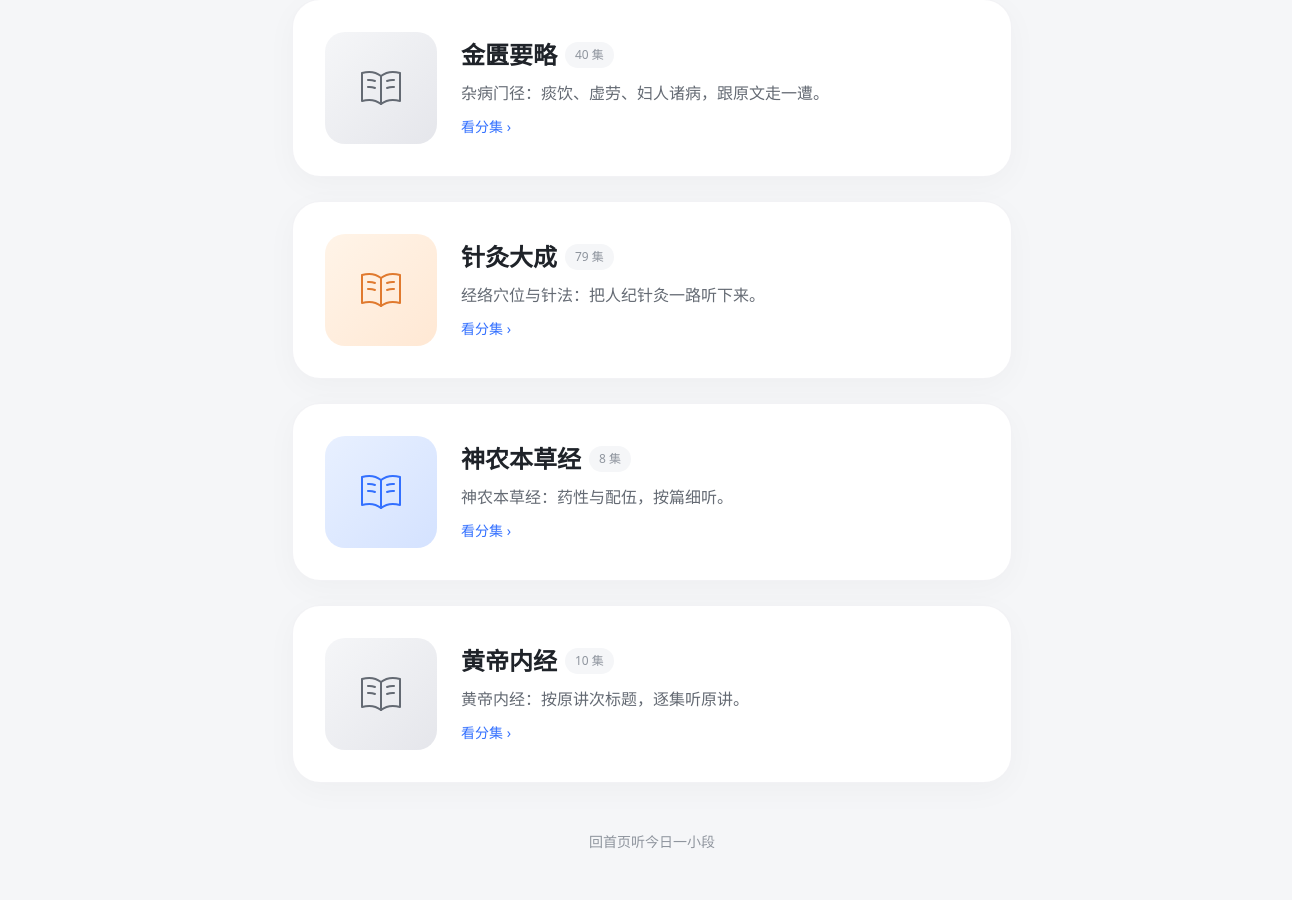
Test case: series list -> ten-episode detail -> original Watch ID -> breadcrumb remains the same series
(page scrolled)
Click the link "黄帝内经 10 集 黄帝内经：按原讲次标题，逐集听原讲。 看分集 ›": (652, 694) x1=292 y1=604 x2=1012 y2=782
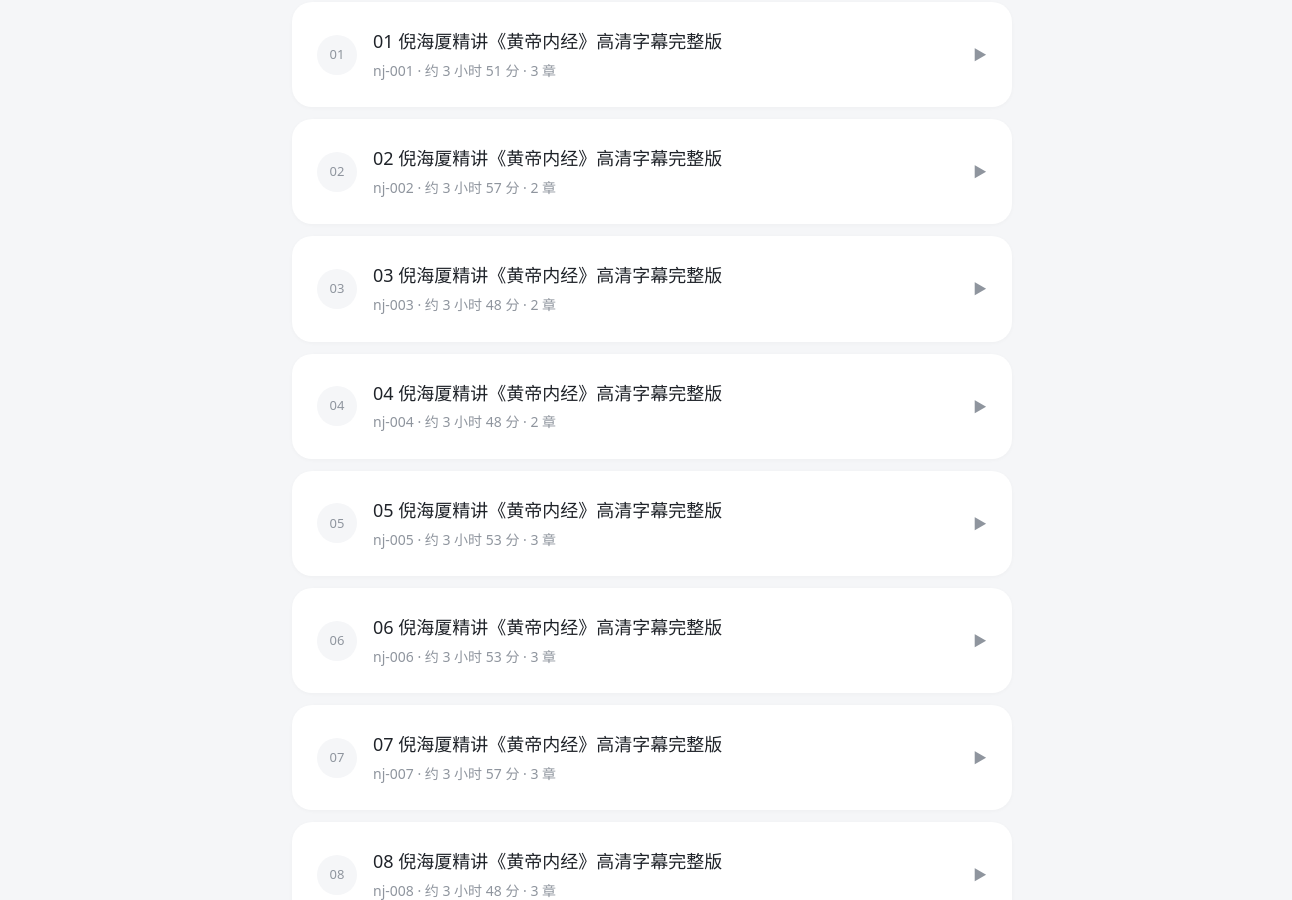
Expected: the number of links with class "episode-row" is 10
Click the link with class "episode-row" that starts with "01 倪海厦精讲《黄帝内经》高清字幕完整版": (652, 55) x1=292 y1=2 x2=1012 y2=107
(page scrolled)
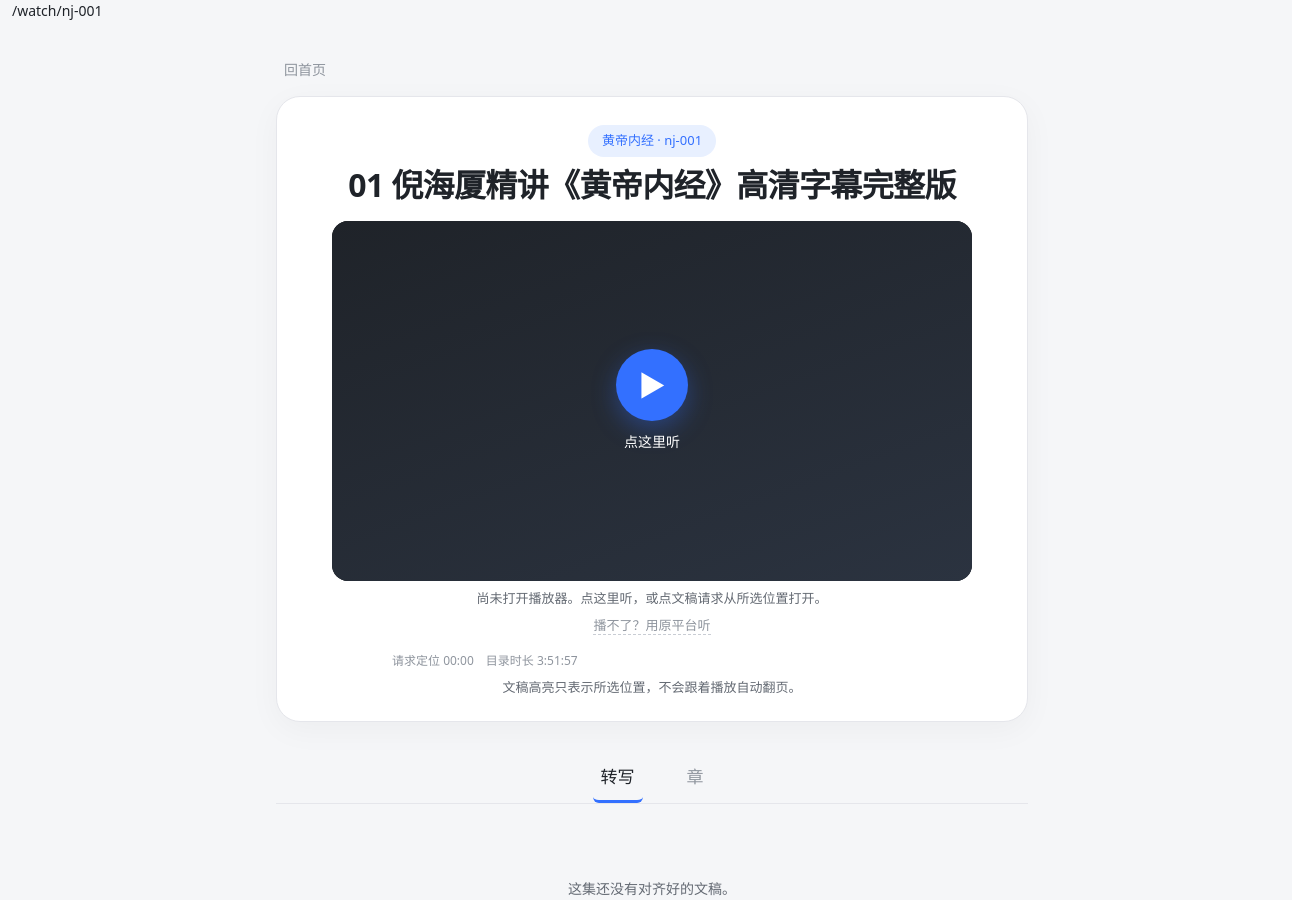
Expected: the text with test id "location" reads "/watch/nj-001", x1=12 y1=1 x2=102 y2=20
Expected: the text "这集还没有对齐好的文稿。" is shown, x1=568 y1=878 x2=736 y2=899
Expected: the link with class "series-chip" reads "黄帝内经 · nj-001"
Click the link with class "series-chip": (652, 141) x1=588 y1=125 x2=716 y2=156
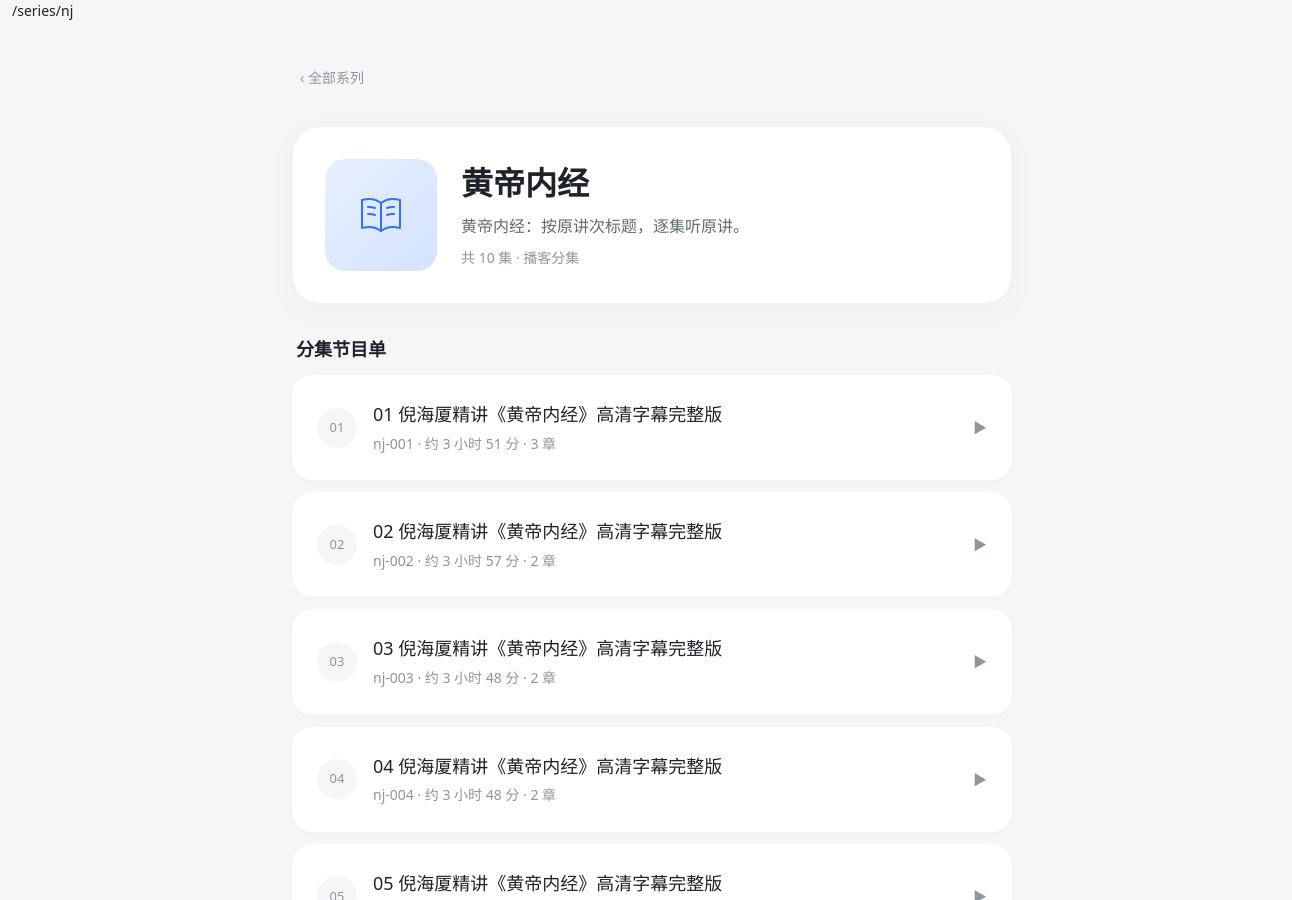
Expected: the text with test id "location" reads "/series/nj", x1=12 y1=1 x2=73 y2=20
